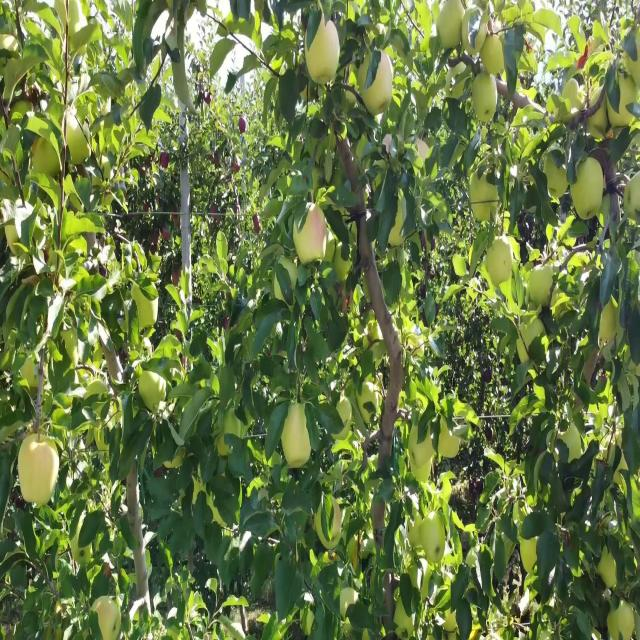apple: (20, 433, 59, 508), (572, 156, 605, 220), (308, 21, 340, 85), (296, 206, 328, 265), (364, 56, 393, 117), (284, 412, 312, 469), (464, 7, 489, 57), (140, 369, 168, 412), (608, 85, 636, 128), (472, 78, 497, 126), (488, 241, 512, 290), (316, 504, 342, 546), (480, 35, 505, 78), (440, 7, 465, 50), (32, 142, 60, 180), (584, 348, 609, 388), (20, 355, 42, 396), (548, 163, 569, 204), (612, 604, 635, 639), (600, 305, 620, 343), (388, 206, 405, 249), (472, 177, 499, 204), (588, 106, 609, 140), (440, 426, 460, 460), (68, 135, 90, 165), (336, 248, 352, 284), (496, 71, 513, 100), (576, 42, 590, 71), (216, 433, 231, 457), (472, 206, 492, 224), (508, 234, 520, 263), (220, 7, 235, 30), (632, 177, 640, 219), (452, 78, 466, 100), (444, 611, 456, 633), (528, 490, 540, 510), (536, 383, 547, 404), (604, 127, 616, 142), (160, 156, 170, 171), (324, 554, 337, 564), (472, 625, 480, 639), (56, 604, 63, 617), (256, 213, 260, 235)
